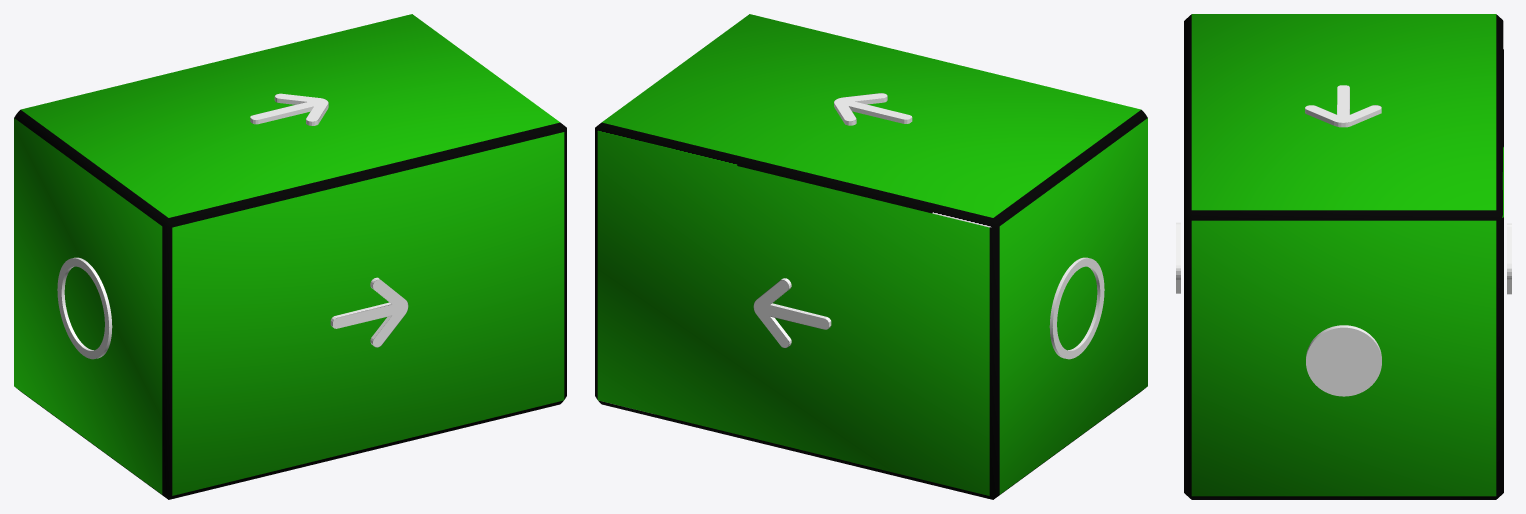
The model's file is BigBoxTapFlowBox_2_2_3_Line_test.fbx.
3 renders of one model, left to right at view 1: azimuth 30°, elevation 25°; view 2: azimuth 150°, elevation 25°; view 3: azimuth 270°, elevation 25°, orthographic. The views are drawn at different scales.
Parts seen in each view (by area): view 1: BigBoxTapFlowBox_2_2_3_Line_test; view 2: BigBoxTapFlowBox_2_2_3_Line_test; view 3: BigBoxTapFlowBox_2_2_3_Line_test.
Part boxes in pixels (x1,y1,x2,y2): BigBoxTapFlowBox_2_2_3_Line_test: (14, 14, 566, 499); BigBoxTapFlowBox_2_2_3_Line_test: (595, 14, 1147, 499); BigBoxTapFlowBox_2_2_3_Line_test: (1176, 14, 1511, 499).
Bounding box in the file's own units: 3.22 × 2.2 × 2.2.
Materials: 1 (1 with a texture image).
